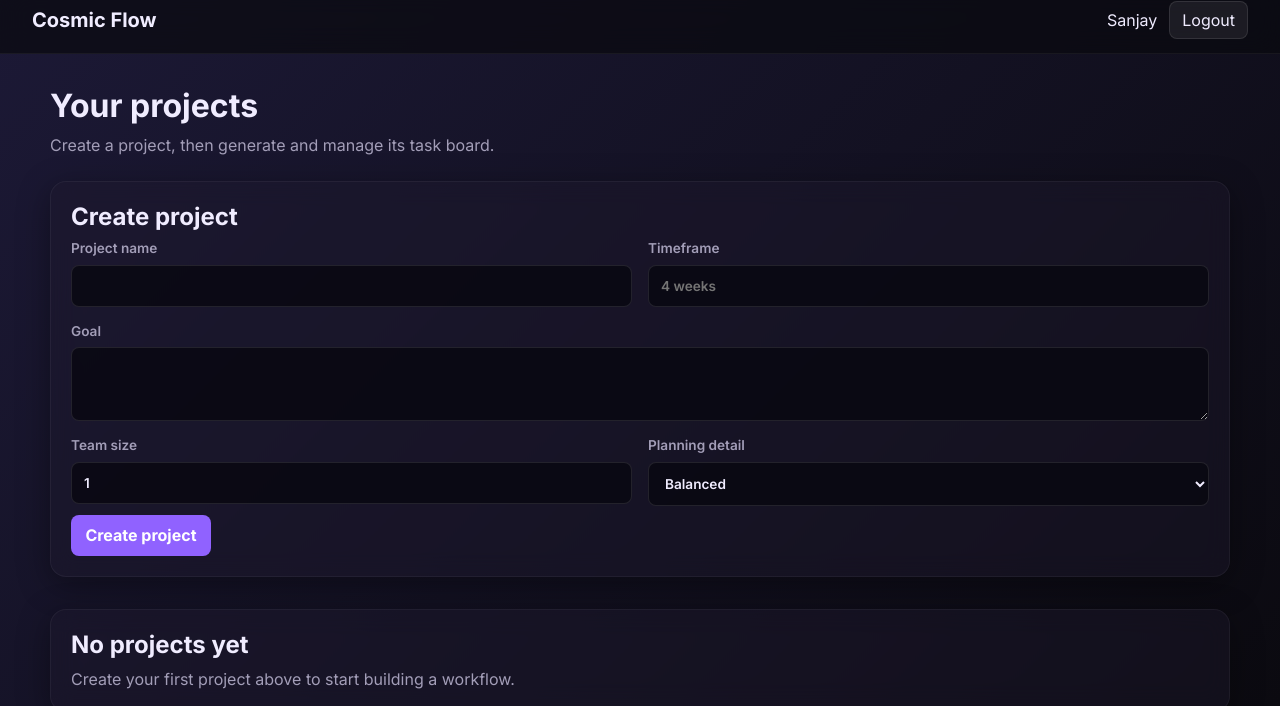
Test case: Phase 3 application › creates and deletes a project through the API
The image size is (1280, 706).
expect the heading "No projects yet" is shown: met, box [71, 630, 248, 659]
In the field labelled "Project name": [352, 286] box [71, 265, 632, 307], type "College Event"
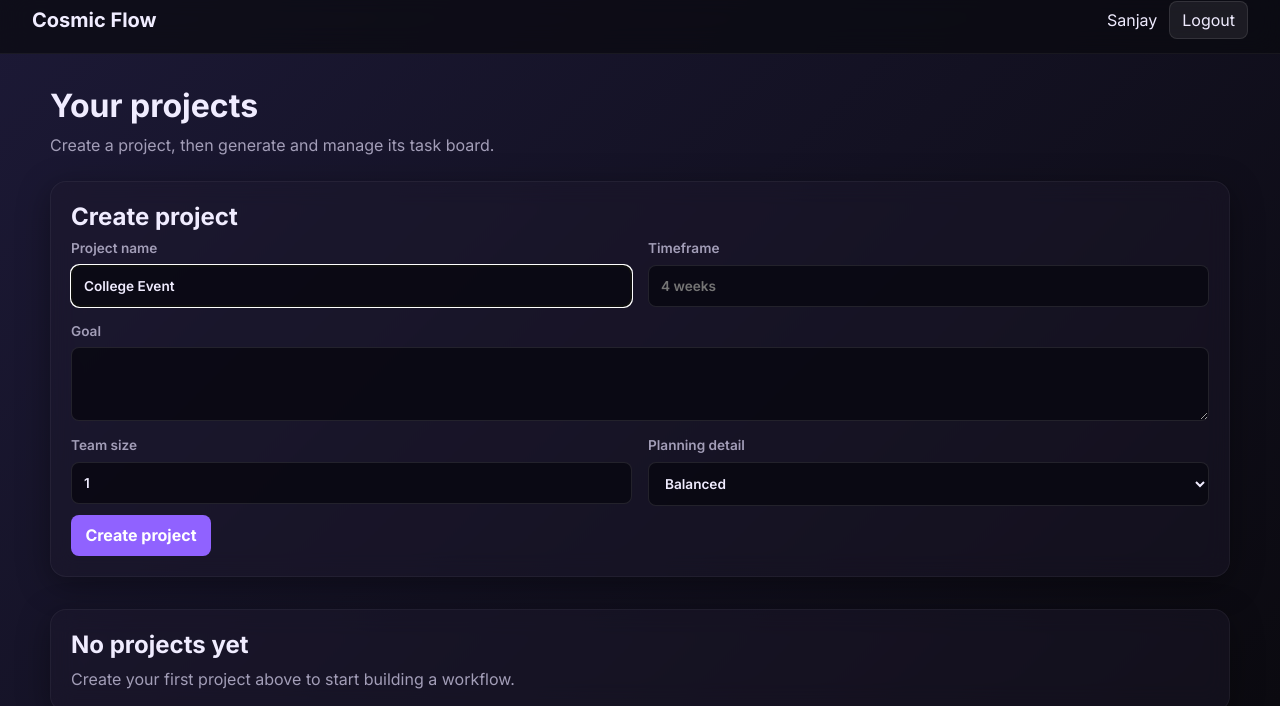
In the text box labelled "Goal": [640, 384] box [71, 347, 1209, 421], type "Launch an event registration website"
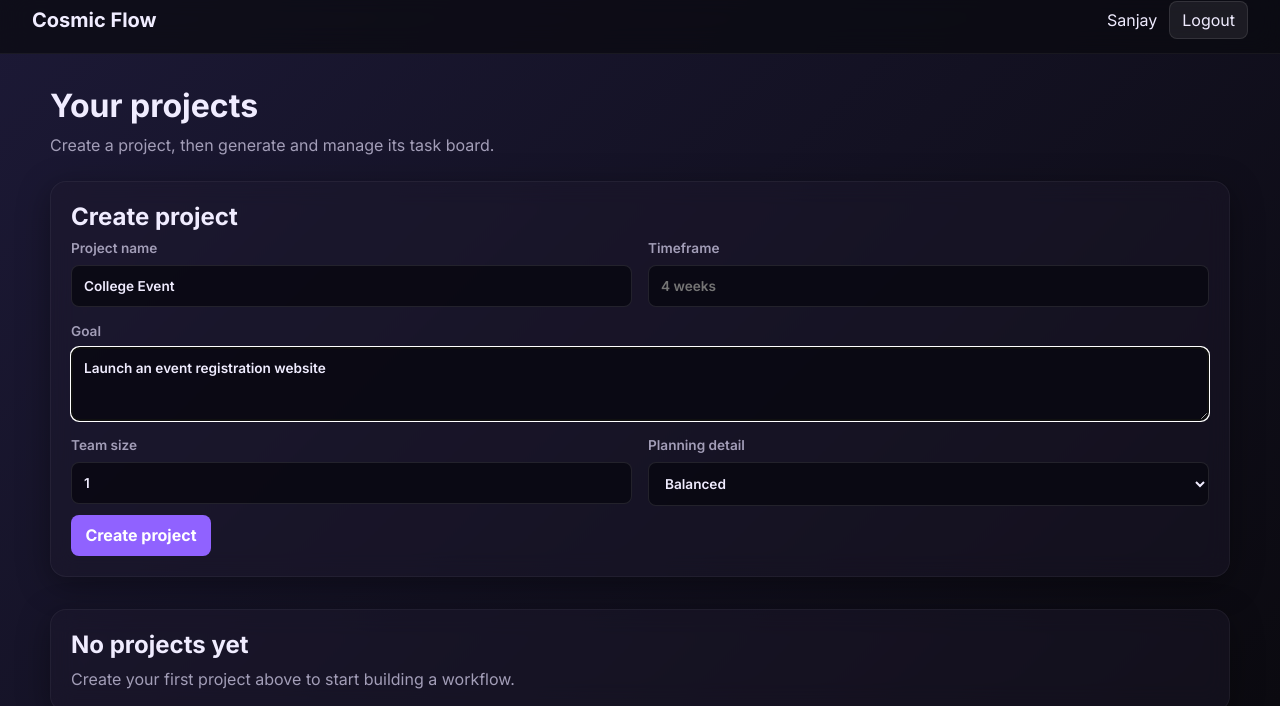
Click the button "Create project": [141, 535] box [71, 515, 211, 556]
(page scrolled)
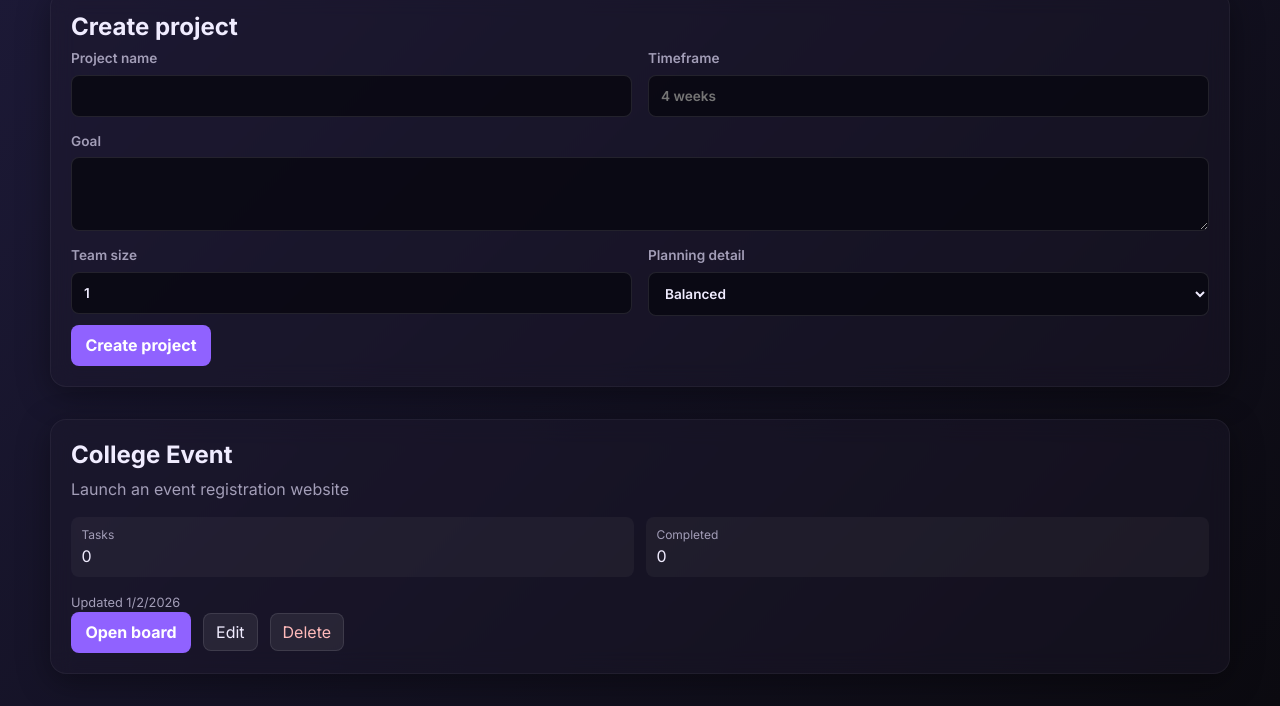
expect the heading "College Event" is shown: met, box [71, 440, 232, 469]
Click the button "Delete": [307, 632] box [270, 613, 344, 651]
(page scrolled)
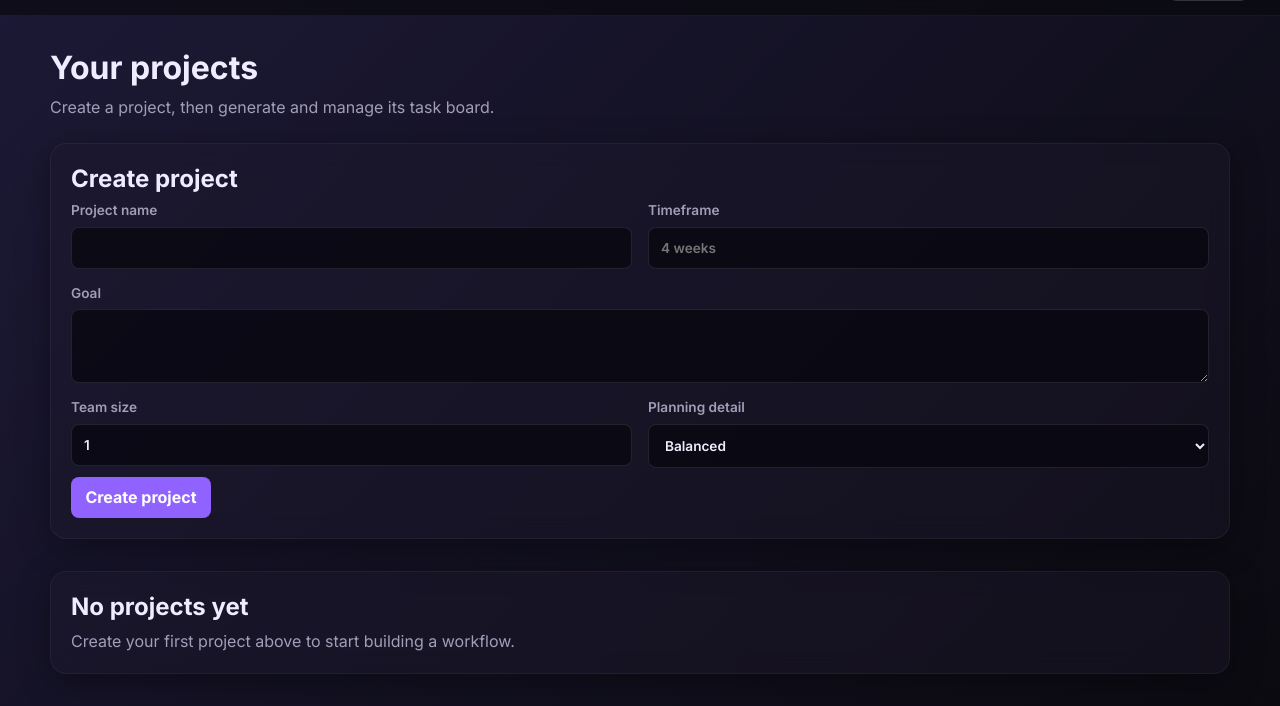
expect the heading "College Event" is gone: met
